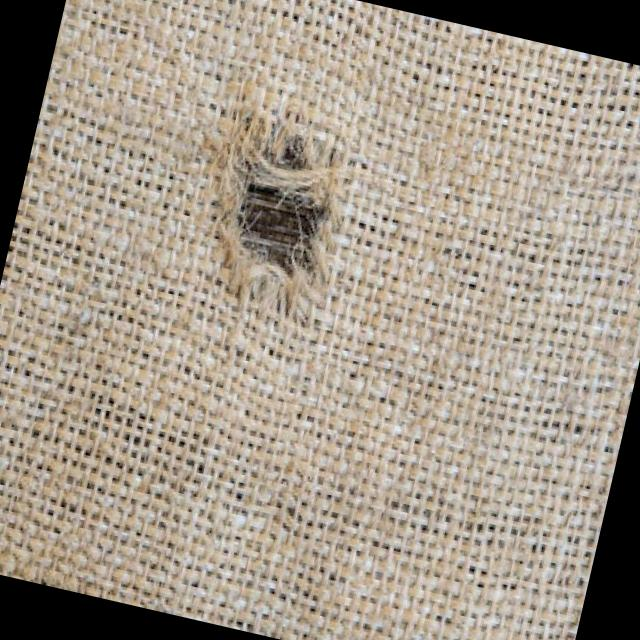hole: (190, 104, 364, 308)
